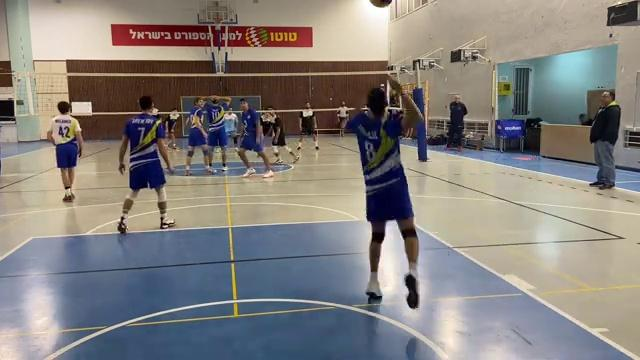ball: (367, 0, 393, 11)
